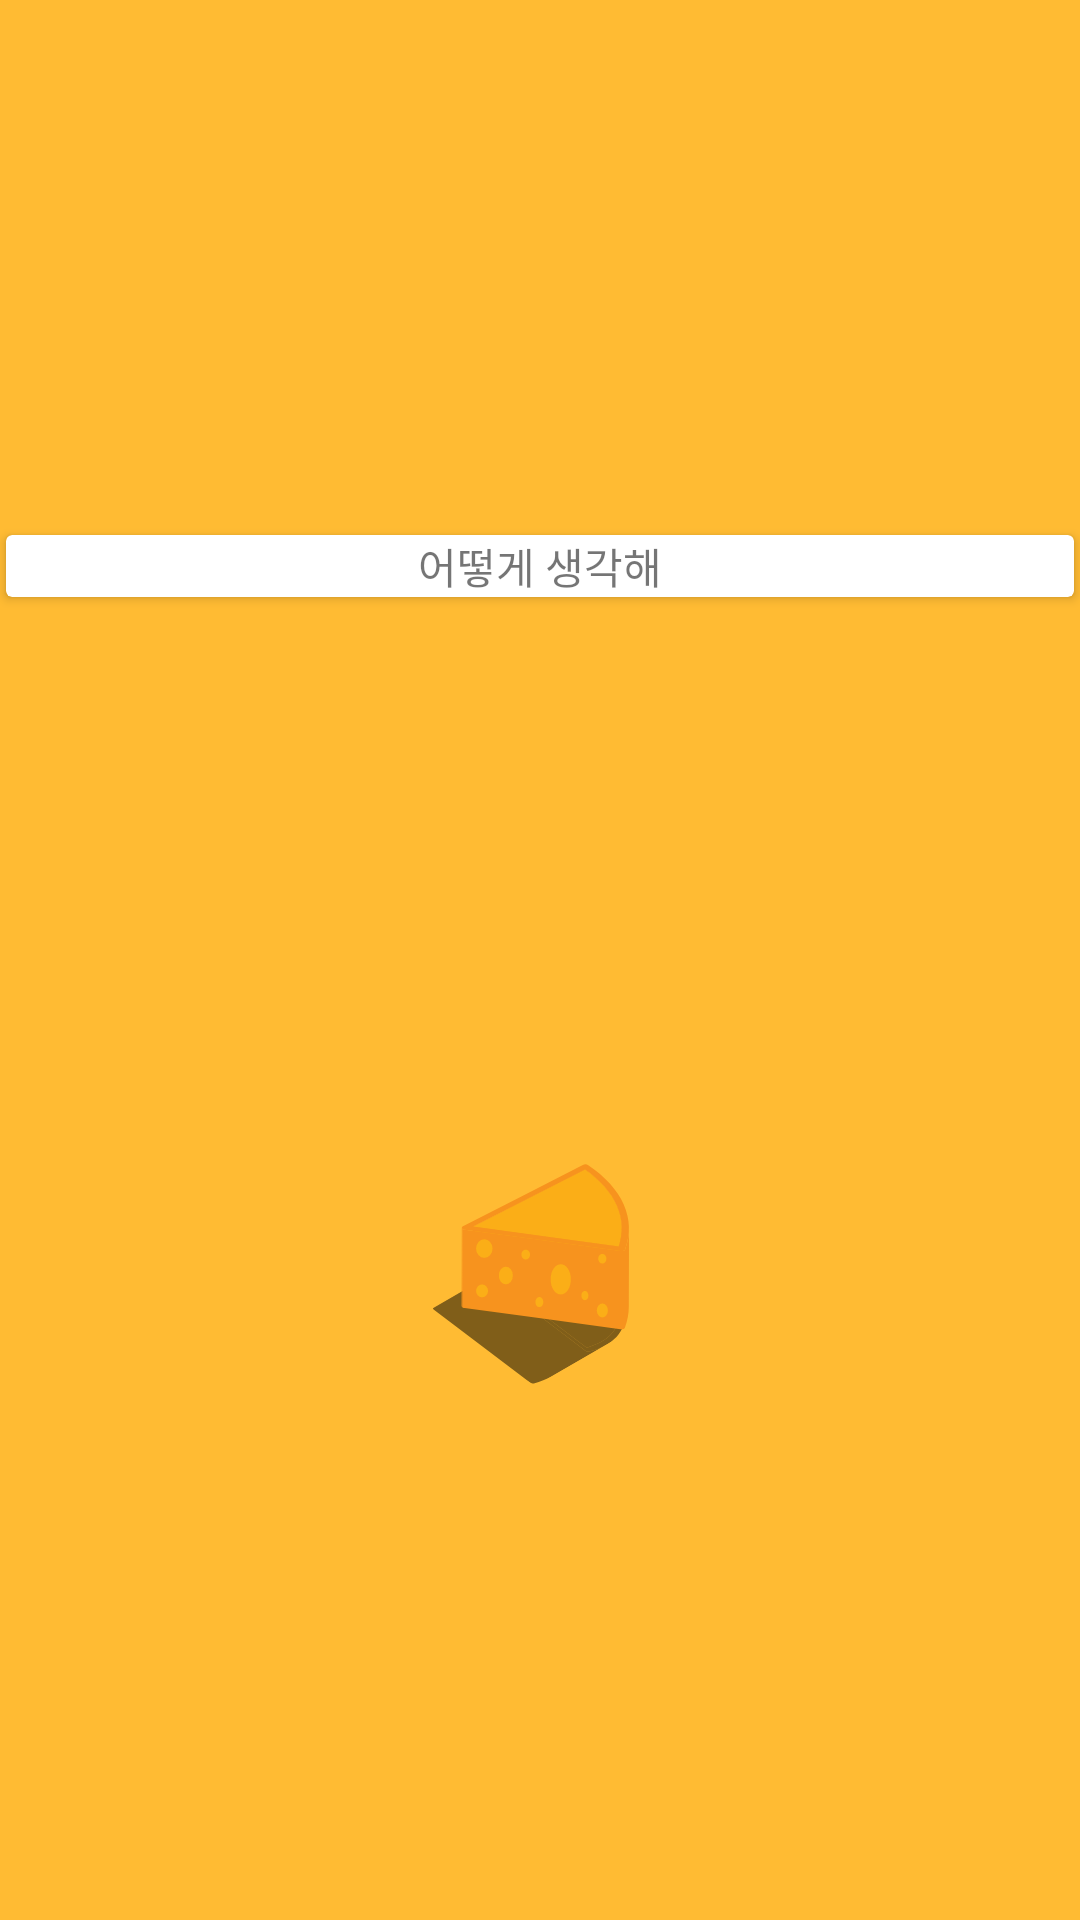

Icon click points for this 1080px×1920px phone screenshot, format [x,y]:
cheeze: [531,1274]
